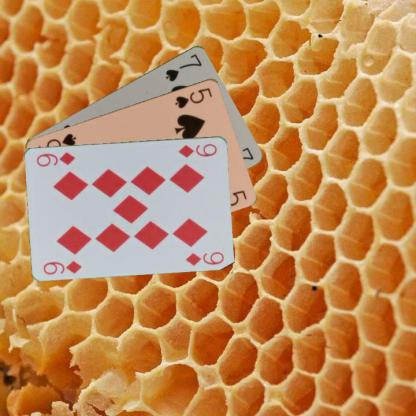5s: (172, 84, 214, 110)
7s: (163, 50, 203, 83)
9d: (176, 141, 218, 159), (41, 258, 83, 276)
